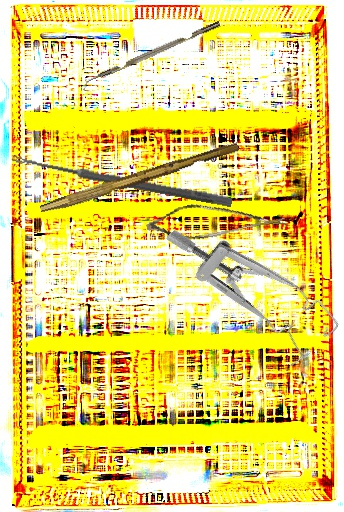Chopper: (79, 21, 224, 92)
Micro Scissor: (144, 183, 291, 257)
Scalpel Handle: (39, 137, 240, 220)
Speculum: (163, 187, 343, 379)
Surgical Spoon: (11, 153, 233, 208)
